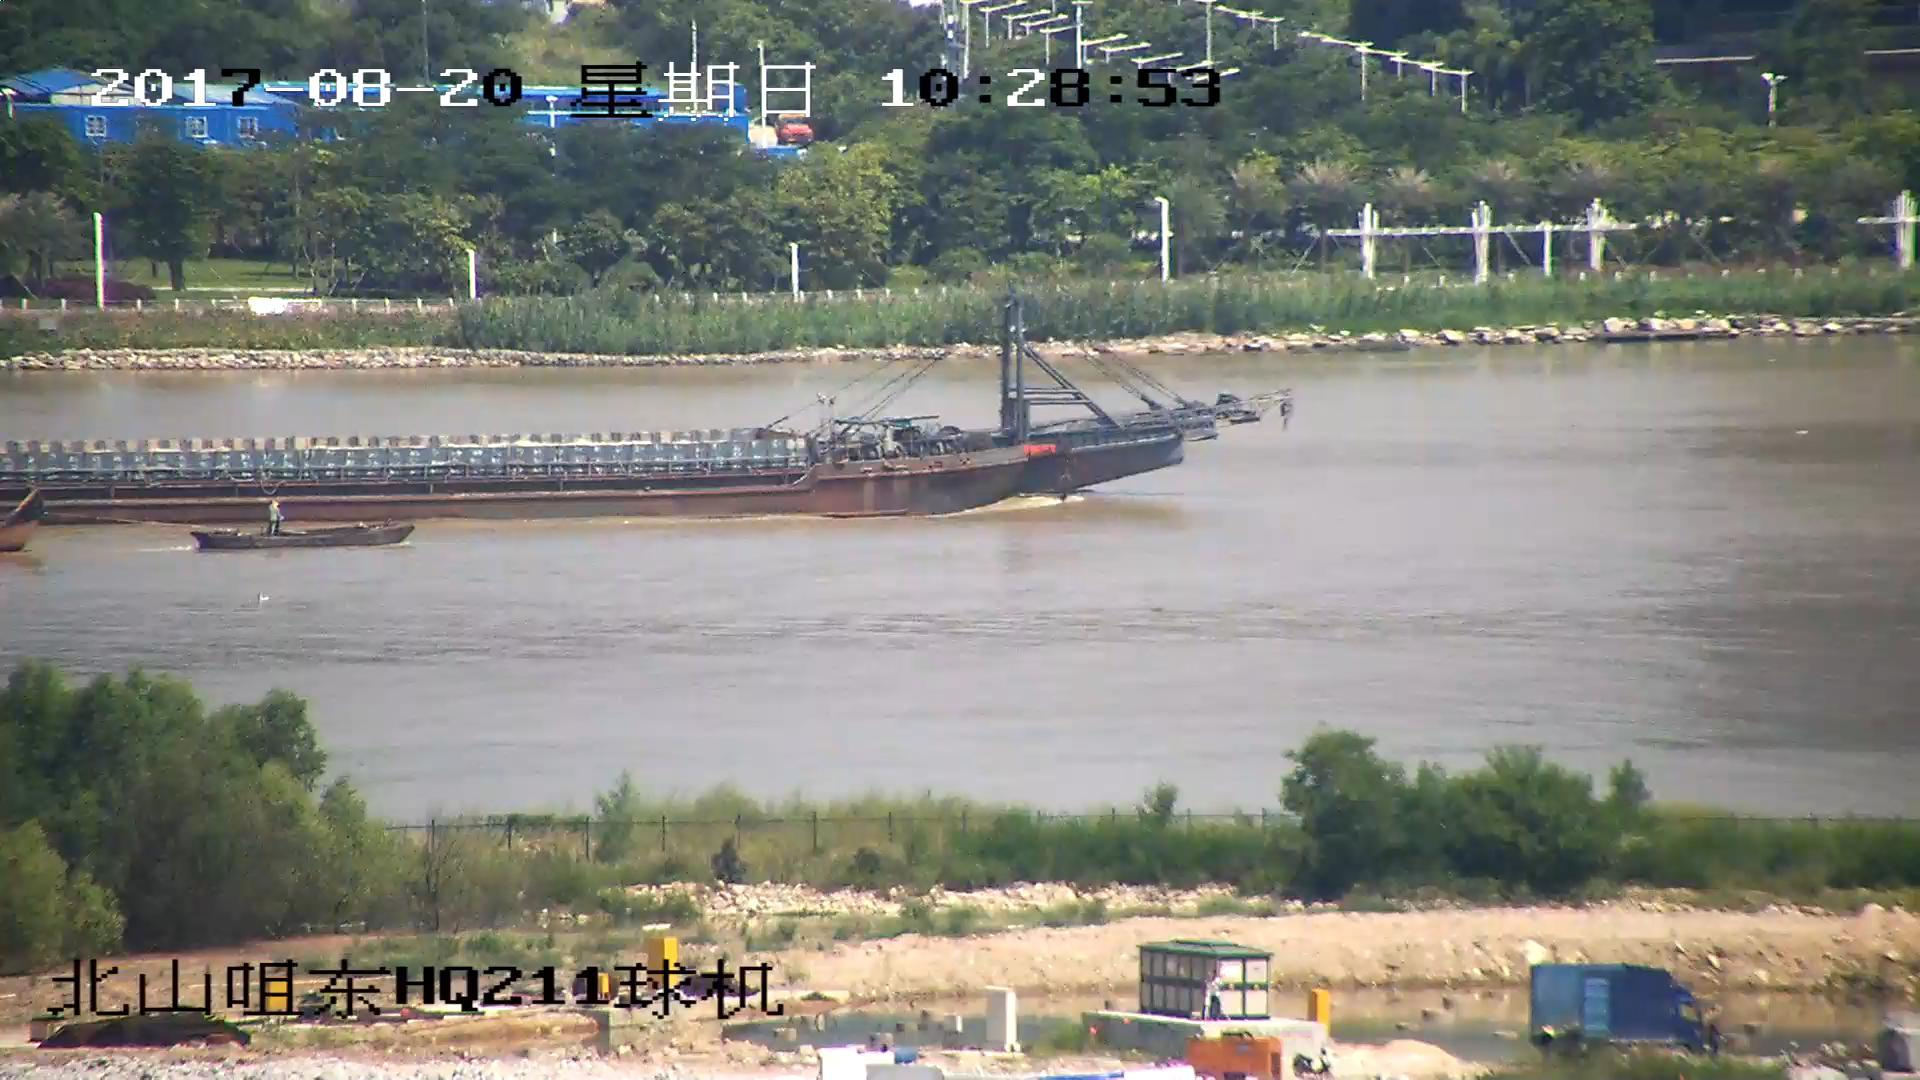Ship: (3, 289, 1284, 524), (193, 506, 411, 555)
